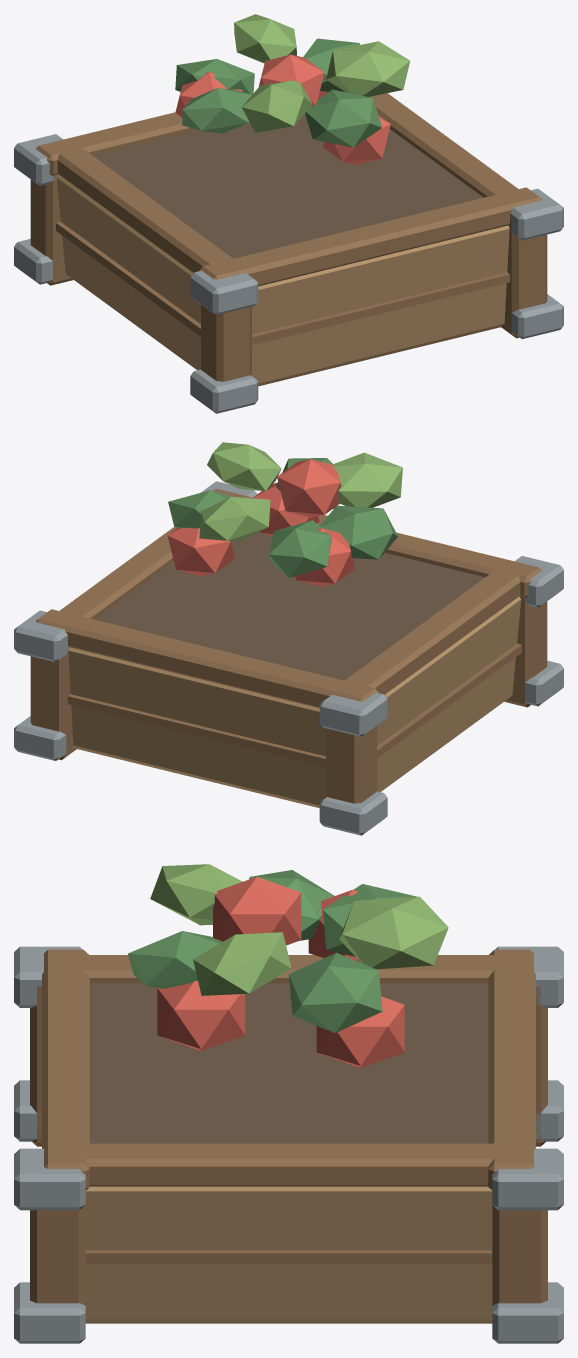
Rendered from BUILD0036_PlanterBox_Tomato.fbx.
3 renders of one model, top to bottom at view 1: azimuth 30°, elevation 25°; view 2: azimuth 150°, elevation 25°; view 3: azimuth 270°, elevation 25°, orthographic. The views are drawn at different scales.
Parts seen in each view (by area): view 1: BUILD0036_PlanterBox_Tomato, CropFoliageRoot.002, CropFruitRoot.002; view 2: BUILD0036_PlanterBox_Tomato, CropFoliageRoot.002, CropFruitRoot.002; view 3: BUILD0036_PlanterBox_Tomato, CropFoliageRoot.002, CropFruitRoot.002.
Boxes of the visible parts, x1,y1,x2,y2 form: BUILD0036_PlanterBox_Tomato: [14, 93, 563, 413]; CropFoliageRoot.002: [175, 14, 409, 147]; CropFruitRoot.002: [175, 54, 390, 164]; BUILD0036_PlanterBox_Tomato: [14, 481, 563, 835]; CropFoliageRoot.002: [168, 442, 402, 577]; CropFruitRoot.002: [167, 459, 355, 586]; BUILD0036_PlanterBox_Tomato: [14, 946, 563, 1343]; CropFoliageRoot.002: [127, 864, 448, 1032]; CropFruitRoot.002: [157, 876, 404, 1068].
Bounding box in the file's own units: 1.38 × 0.975 × 1.38.
